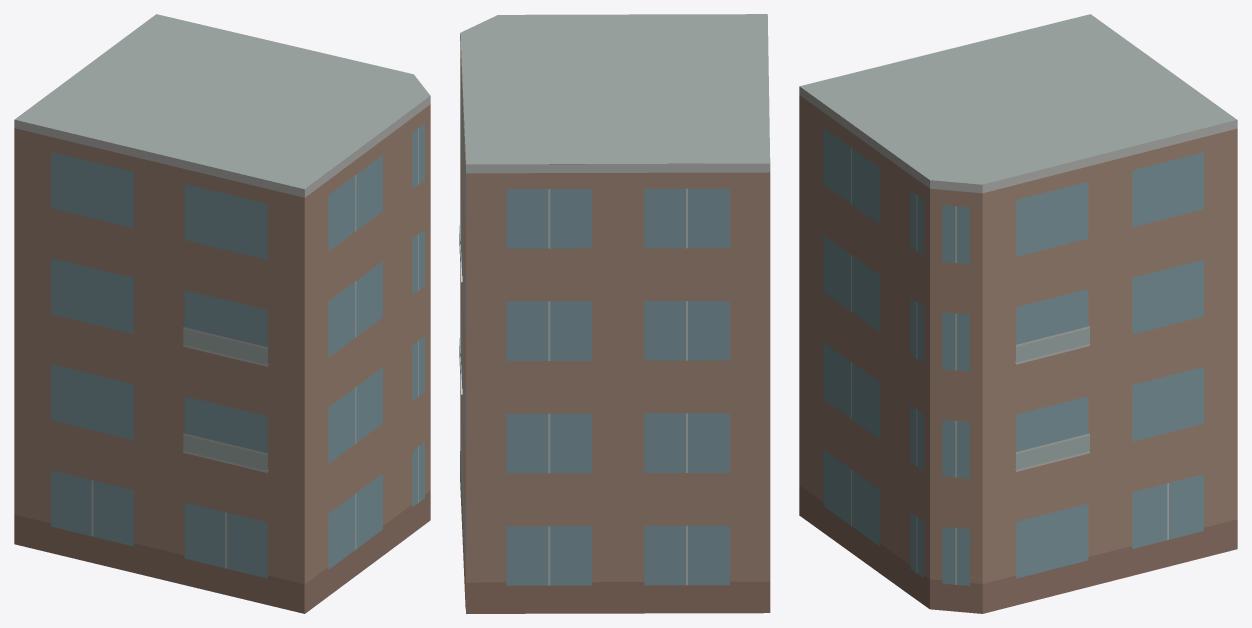
File: residential-531c46c8-b4e8-4562-9362-881feb83c7a1.glb
3 views of the same model, side by side, from view 1: azimuth 30°, elevation 25°; view 2: azimuth 150°, elevation 25°; view 3: azimuth 270°, elevation 25° (orthographic). The views are drawn at different scales.
Visible parts, largest first — view 1: residential-531c46c8-b4e8-4562-9362-881feb83c7a1.tmp; view 2: residential-531c46c8-b4e8-4562-9362-881feb83c7a1.tmp; view 3: residential-531c46c8-b4e8-4562-9362-881feb83c7a1.tmp.
Boxes of the visible parts, x1=… form: residential-531c46c8-b4e8-4562-9362-881feb83c7a1.tmp: x1=14, y1=14, x2=430, y2=613; residential-531c46c8-b4e8-4562-9362-881feb83c7a1.tmp: x1=459, y1=14, x2=770, y2=613; residential-531c46c8-b4e8-4562-9362-881feb83c7a1.tmp: x1=799, y1=14, x2=1237, y2=613.
Bounding box in the file's own units: 10.42 × 12.2 × 11.3.
